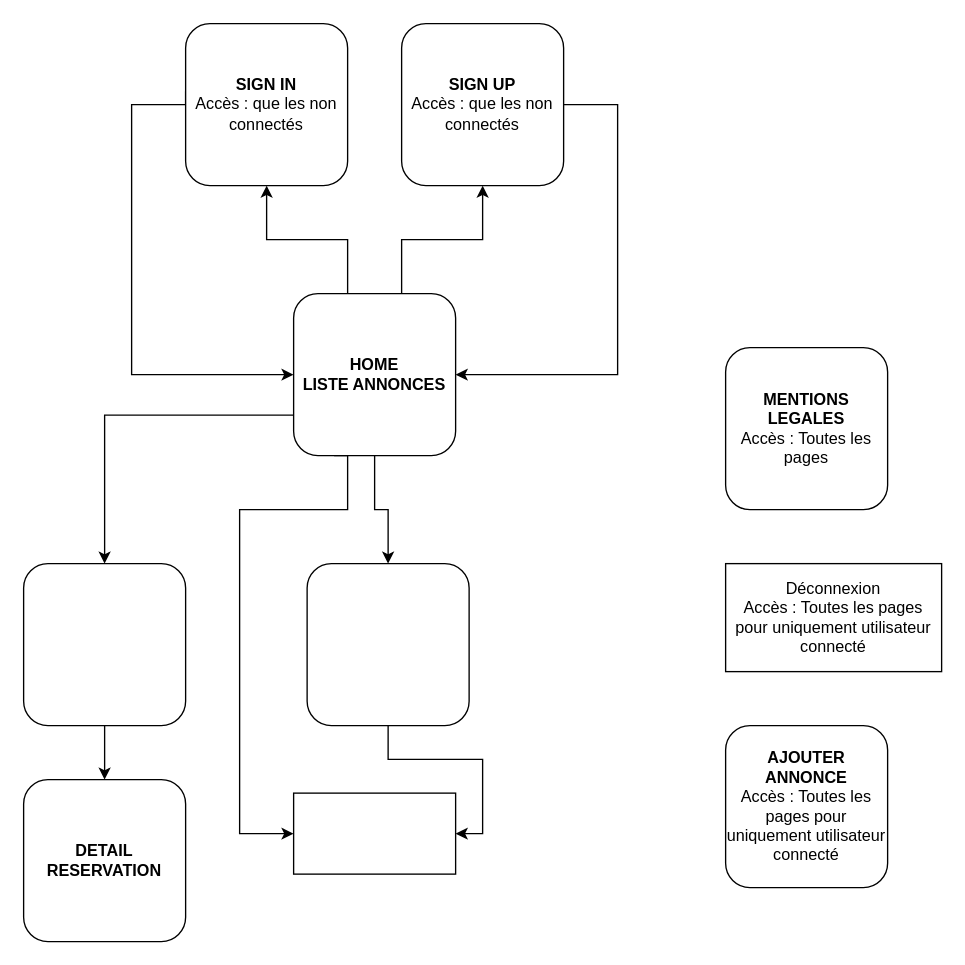
The diagram is 965 pixels wide and 965 high, and some of its shapes have lost their labels. Here are the shapes that lost their labels. From the top down, the centre of each, then its label:
the point at 104,644: LISTE RESERVATIONS
the point at 387,644: DETAIL ANNONCE
the point at 374,833: Supprimer une annonce
